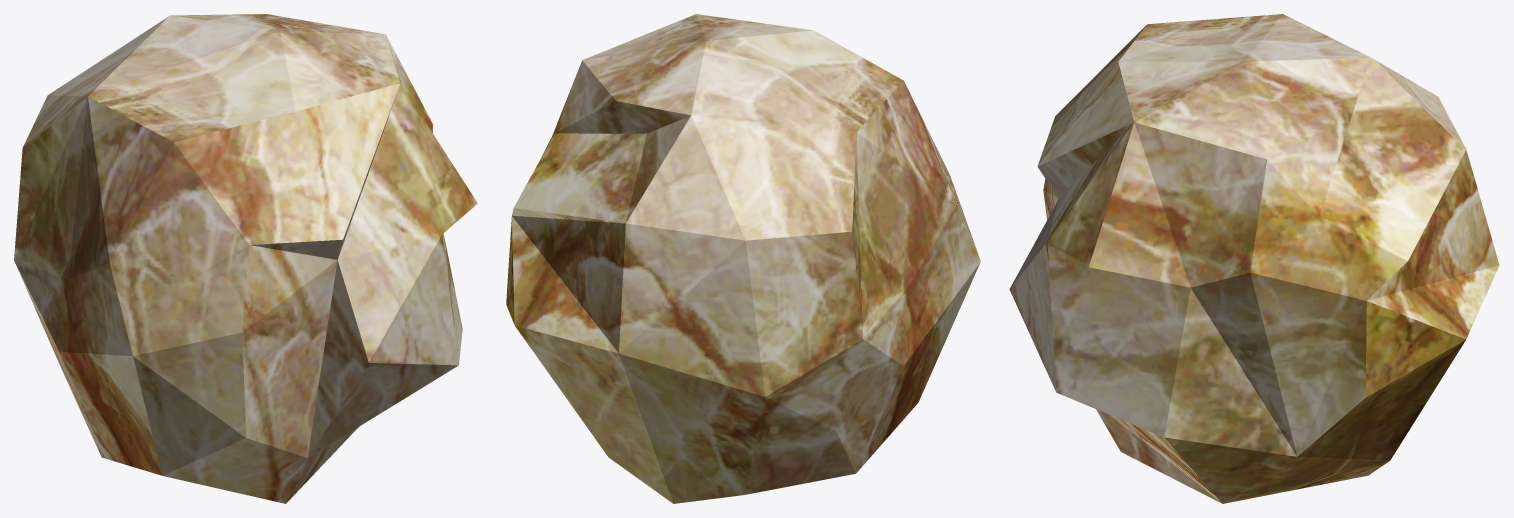
The picture shows the model from 3 angles, left to right: view 1: azimuth 30°, elevation 25°; view 2: azimuth 150°, elevation 25°; view 3: azimuth 270°, elevation 25°; orthographic projection. The views are drawn at different scales.
Parts seen in each view (by area): view 1: MA00027_02; view 2: MA00027_02; view 3: MA00027_02.
Boxes of the visible parts, bbox=[...] form: MA00027_02: bbox=[14, 14, 477, 503]; MA00027_02: bbox=[506, 14, 980, 503]; MA00027_02: bbox=[1009, 14, 1499, 503].
Bounding box in the file's own units: 2.7 × 2.96 × 3.07.
